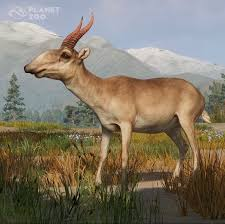saiga: (23, 15, 213, 192)
